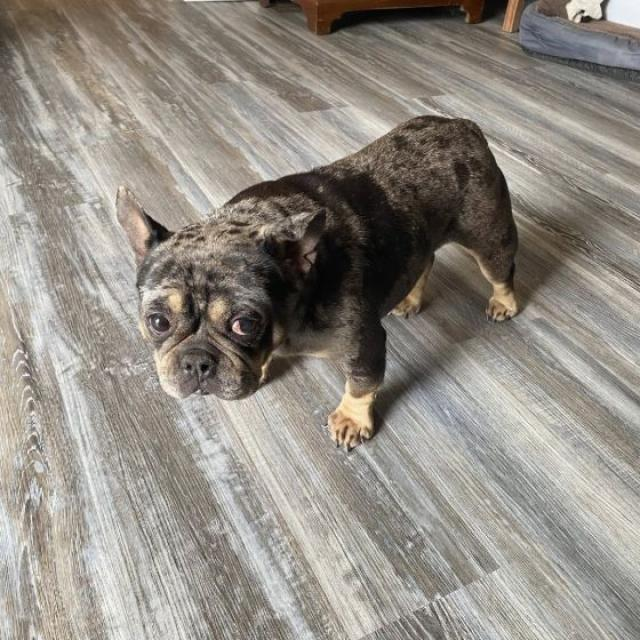french_bulldog_dog: (107, 177, 338, 410)
